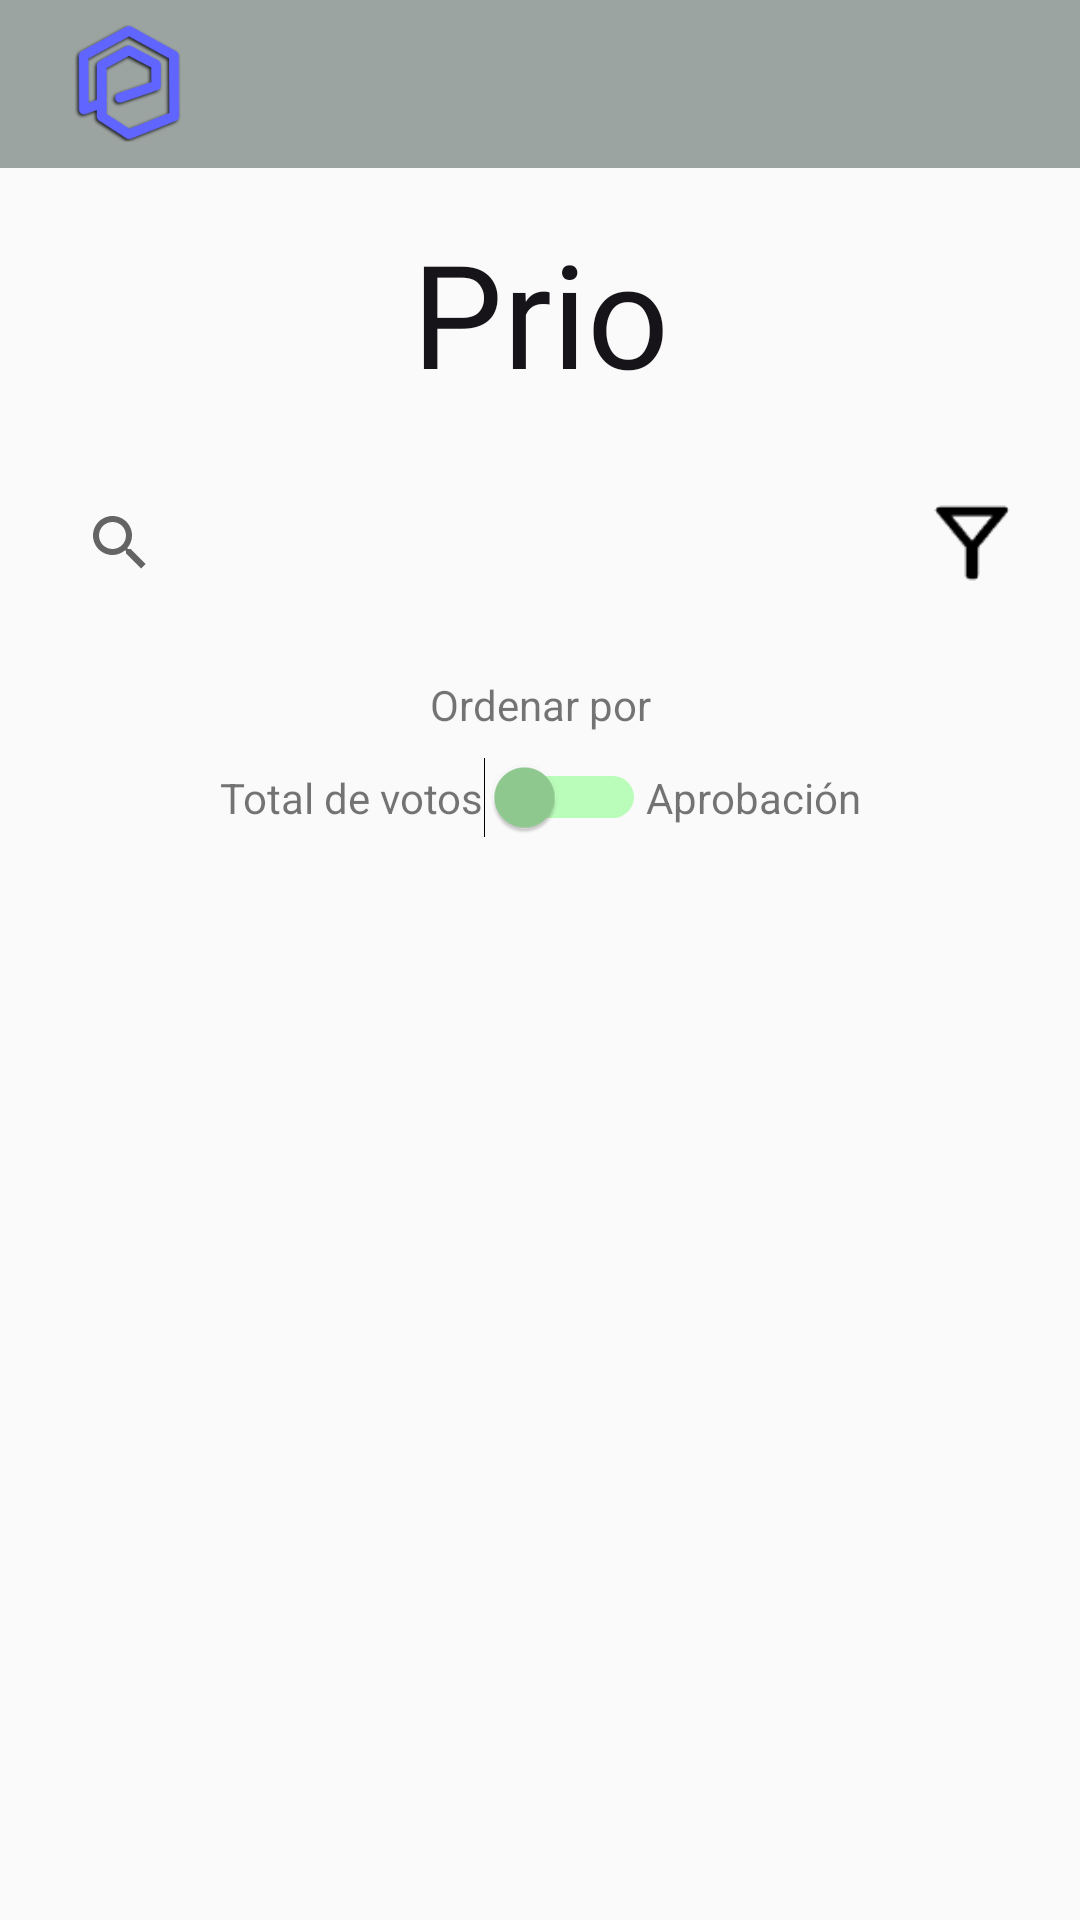

Where icons sit on this 1080x1920 app screen, as [x1, y1, x2, y2]:
filter: [934, 505, 1009, 581]
